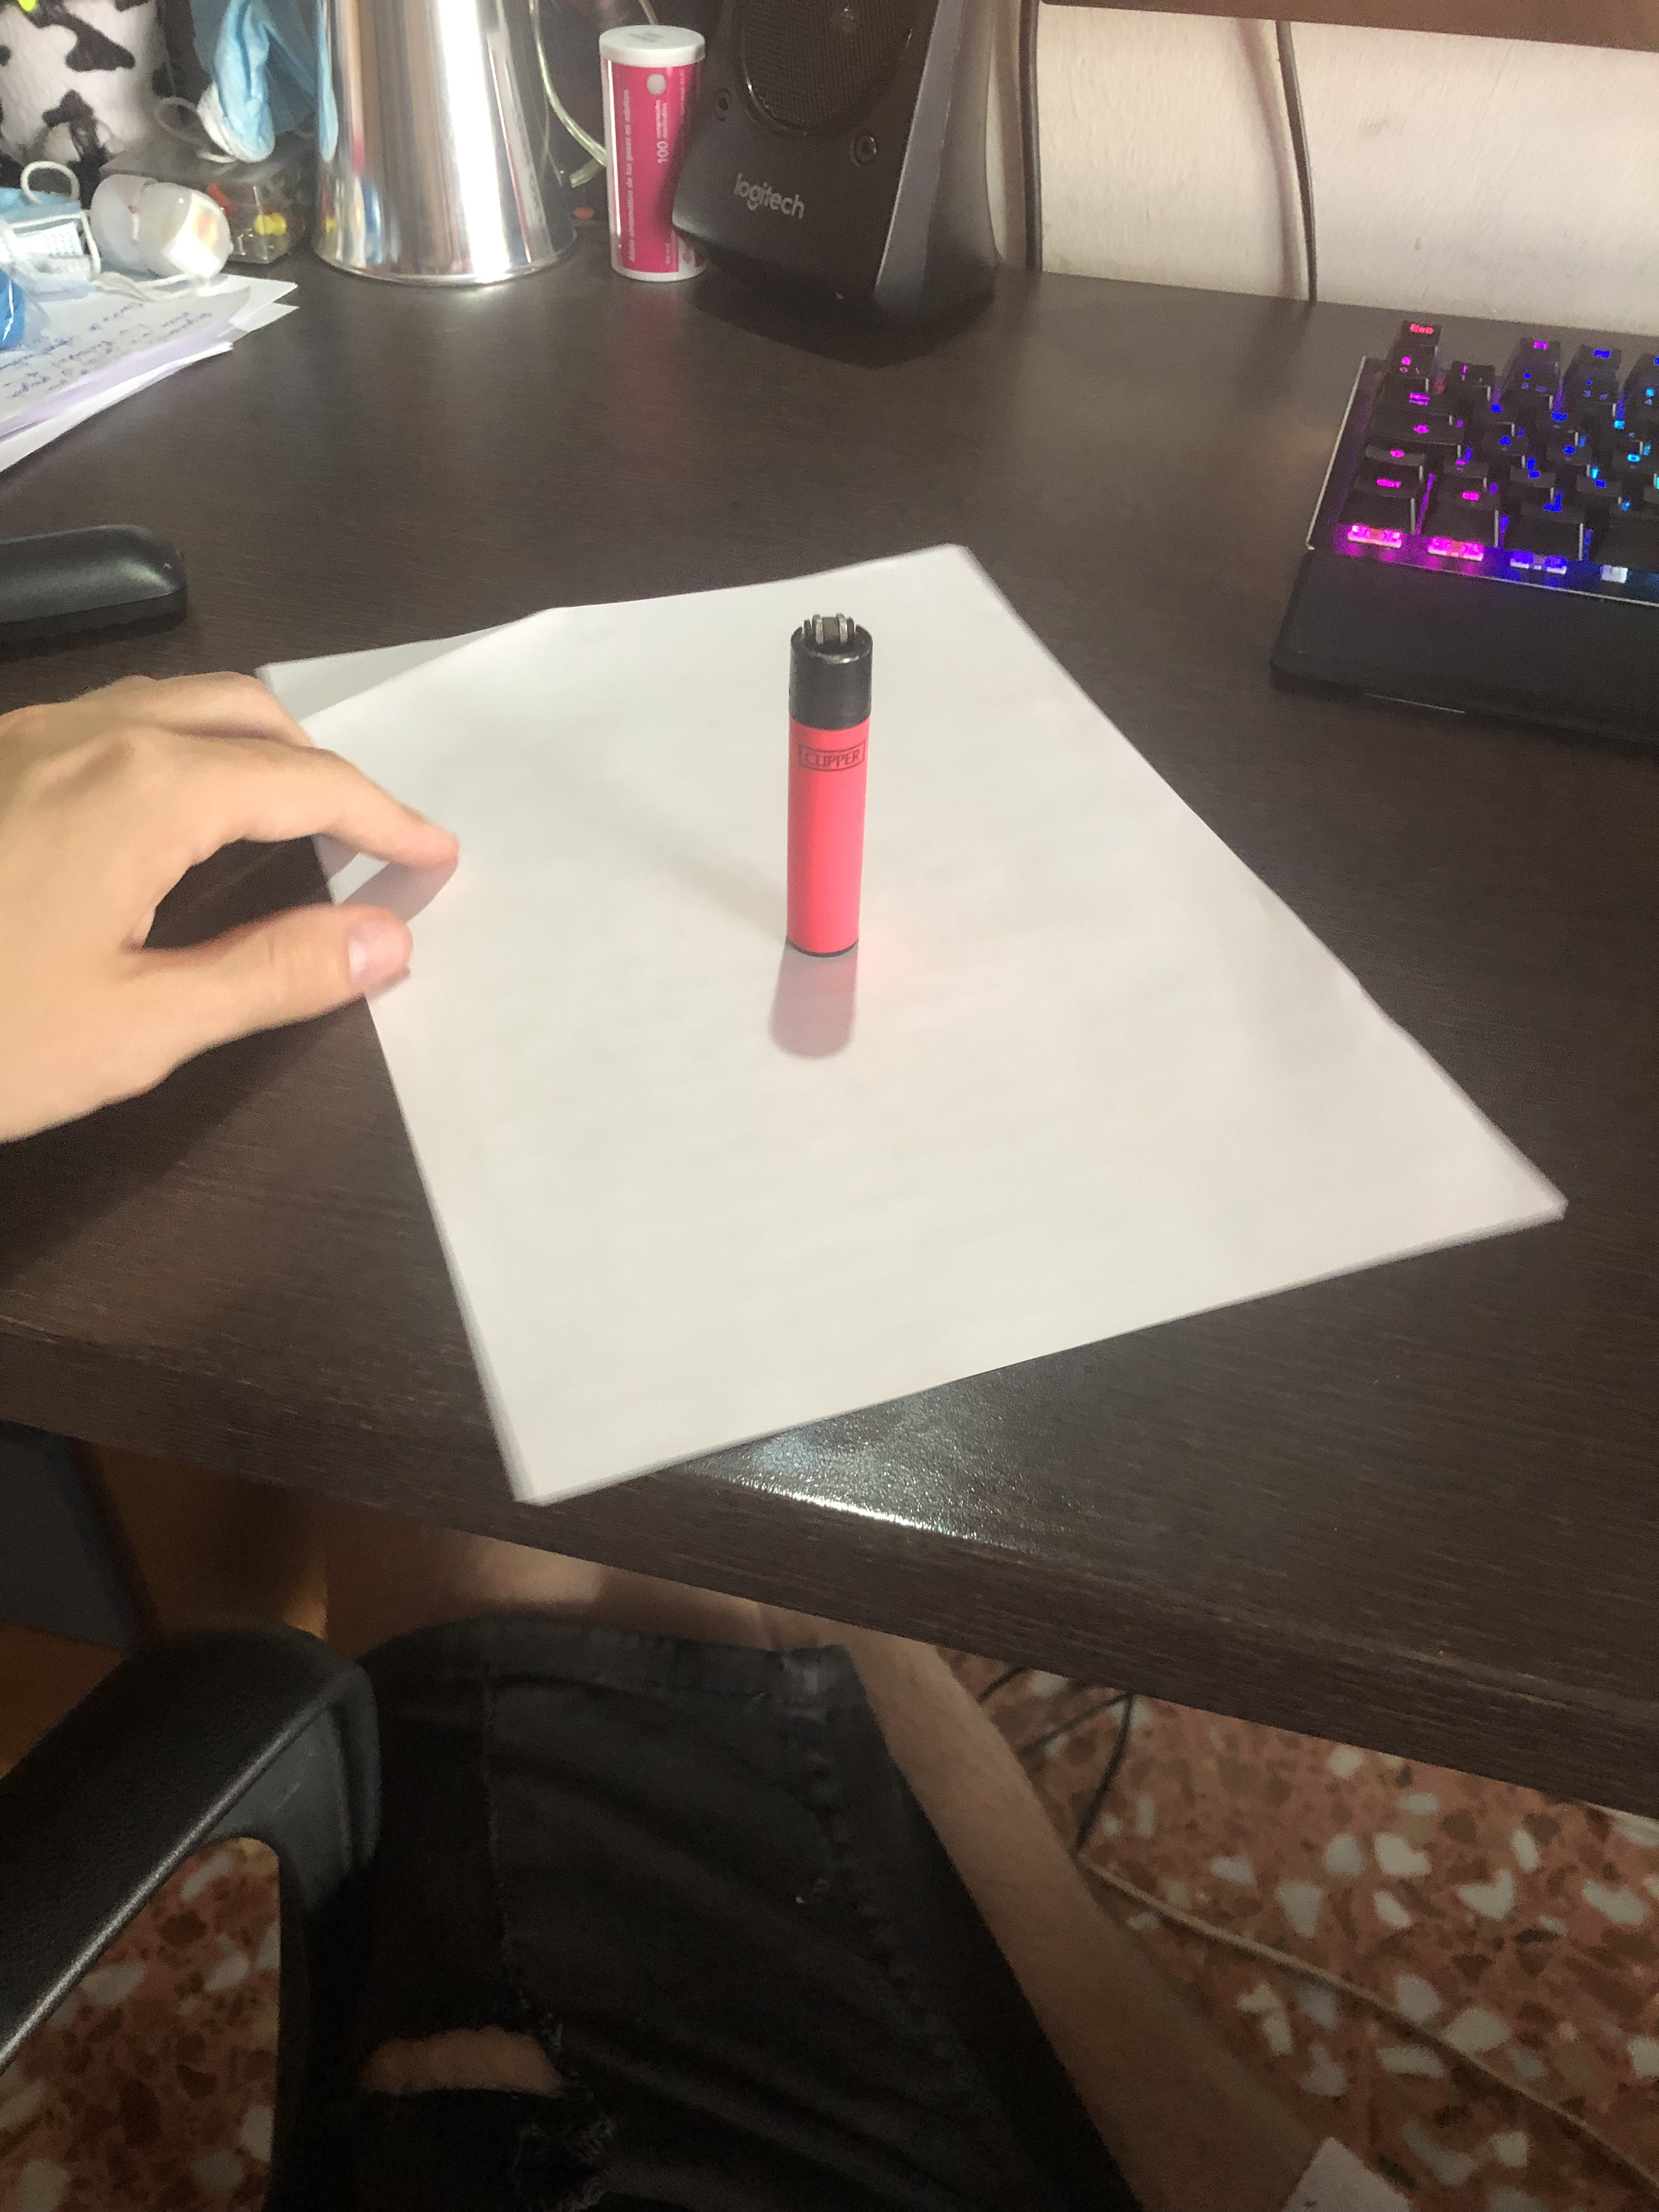Mechero: (770, 611, 885, 961)
